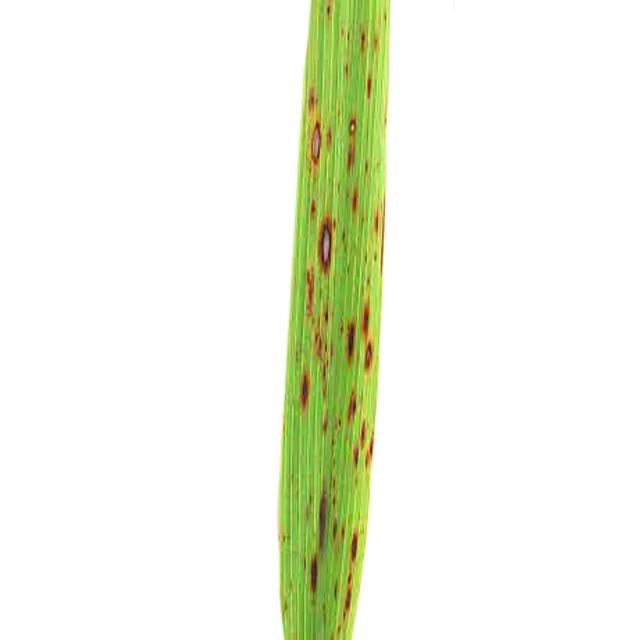Brown spot: (270, 0, 394, 640)
